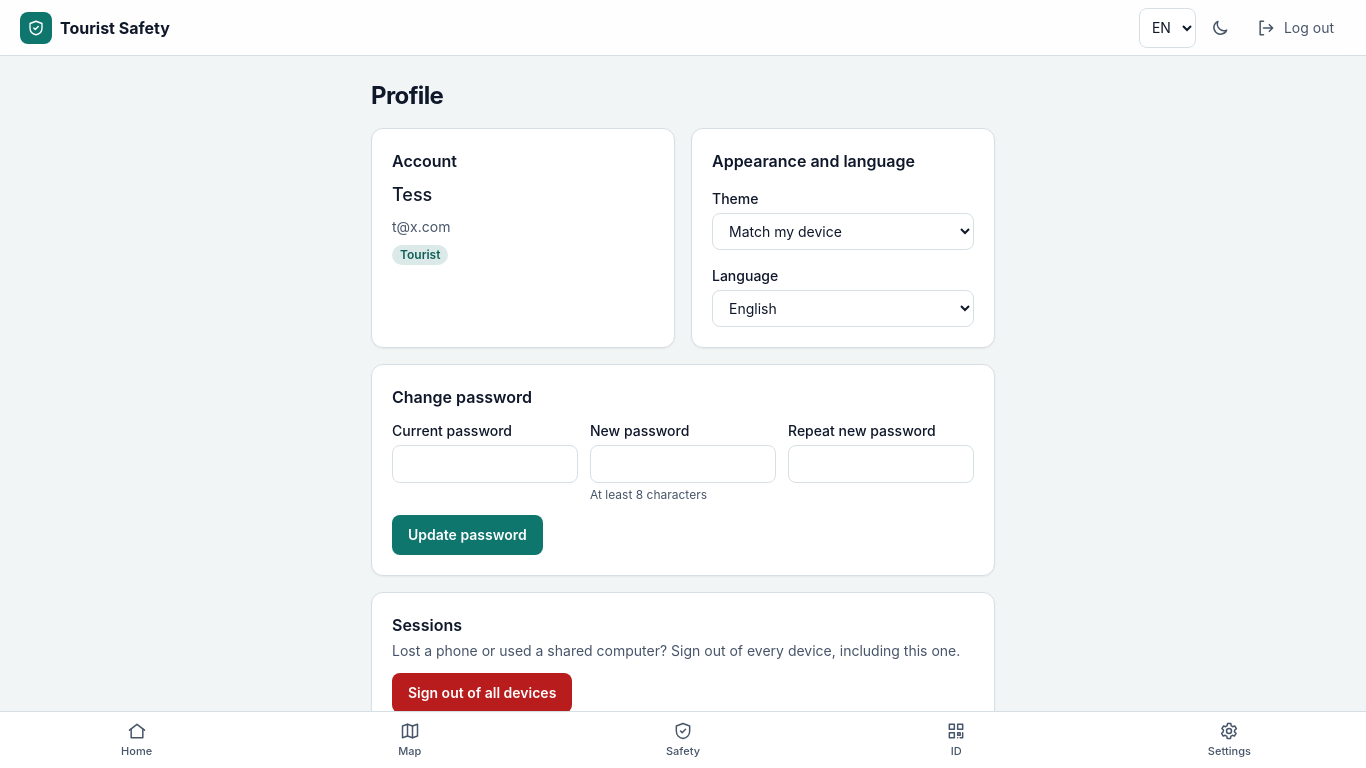
wrong current password shows the server message and keeps the old token
Type "nope-nope" into the password field labelled "Current password" at (485, 464), box x1=392 y1=445 x2=578 y2=483
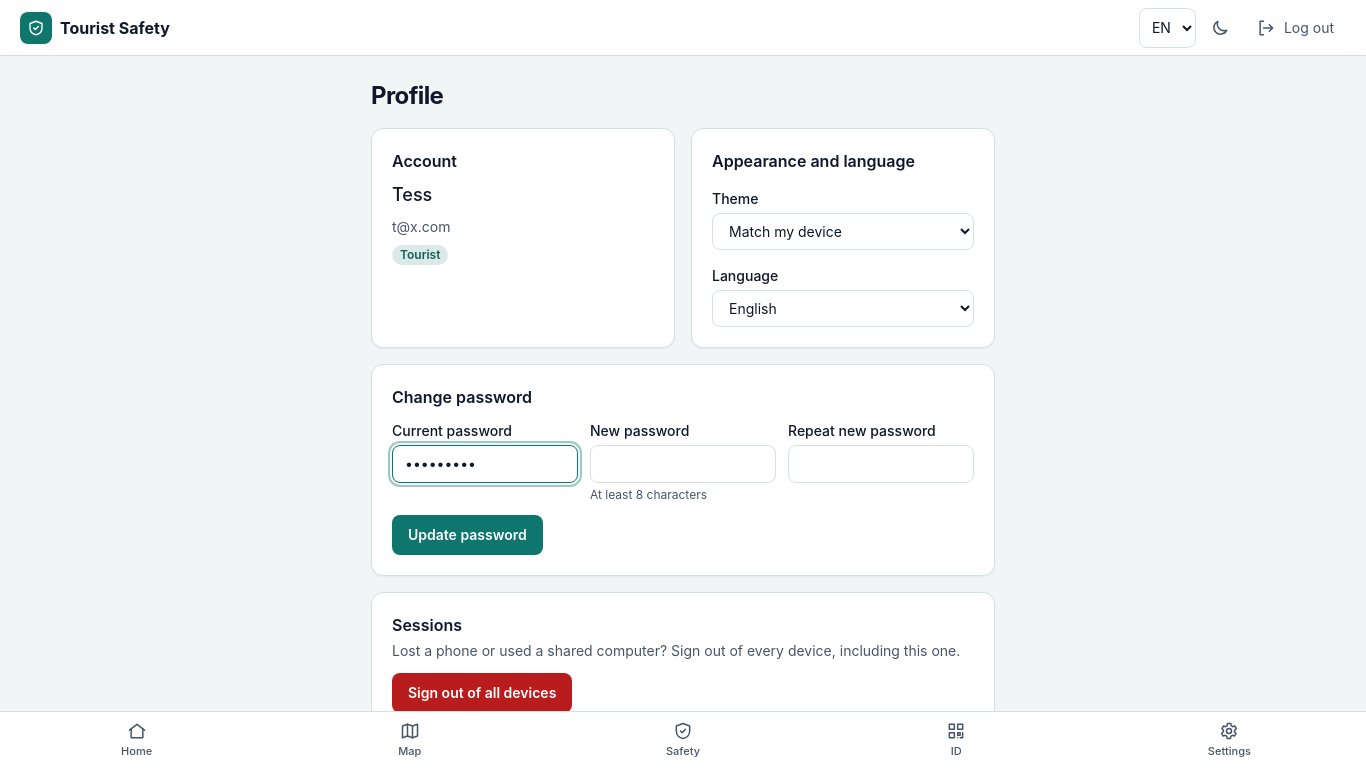
Type "newpassword1" into the password field labelled "New password" at (683, 464), box x1=590 y1=445 x2=776 y2=483
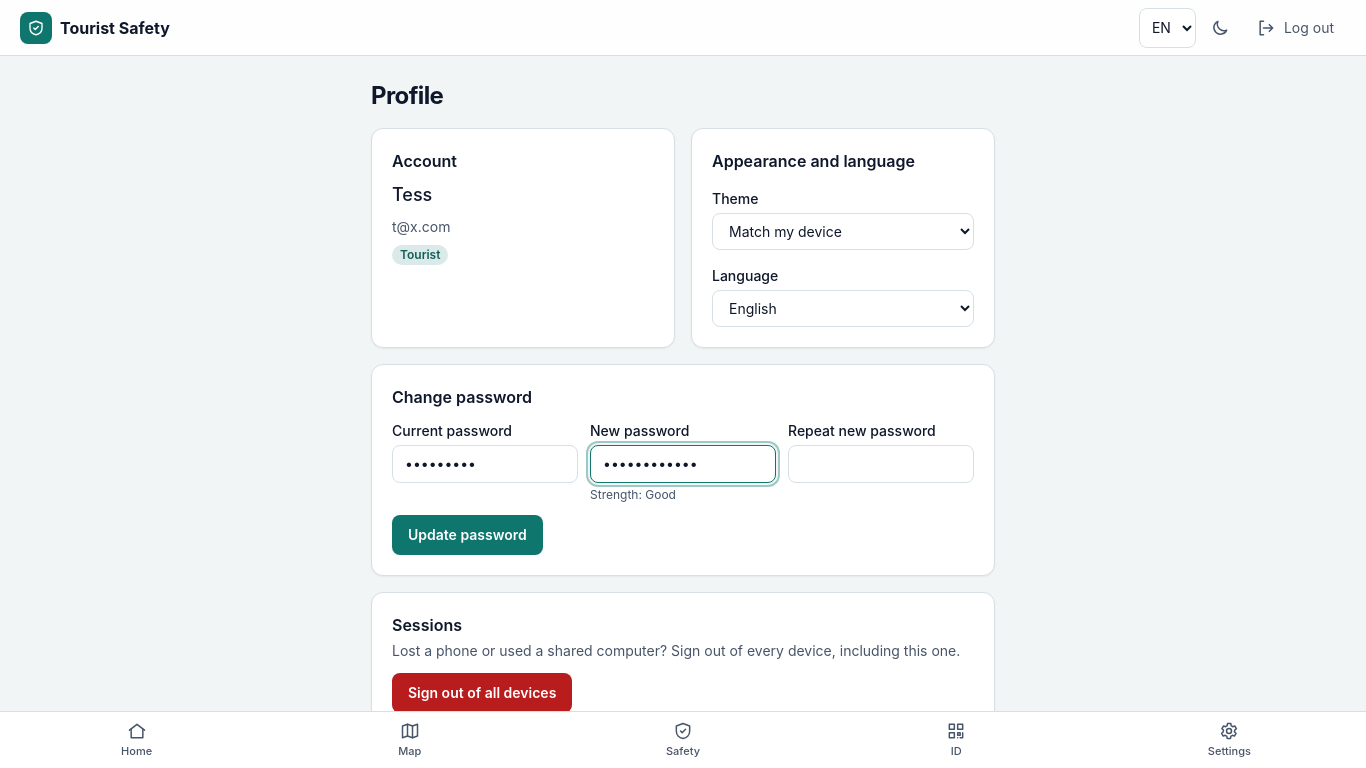
Type "newpassword1" into the password field labelled "Repeat new password" at (881, 464), box x1=788 y1=445 x2=974 y2=483
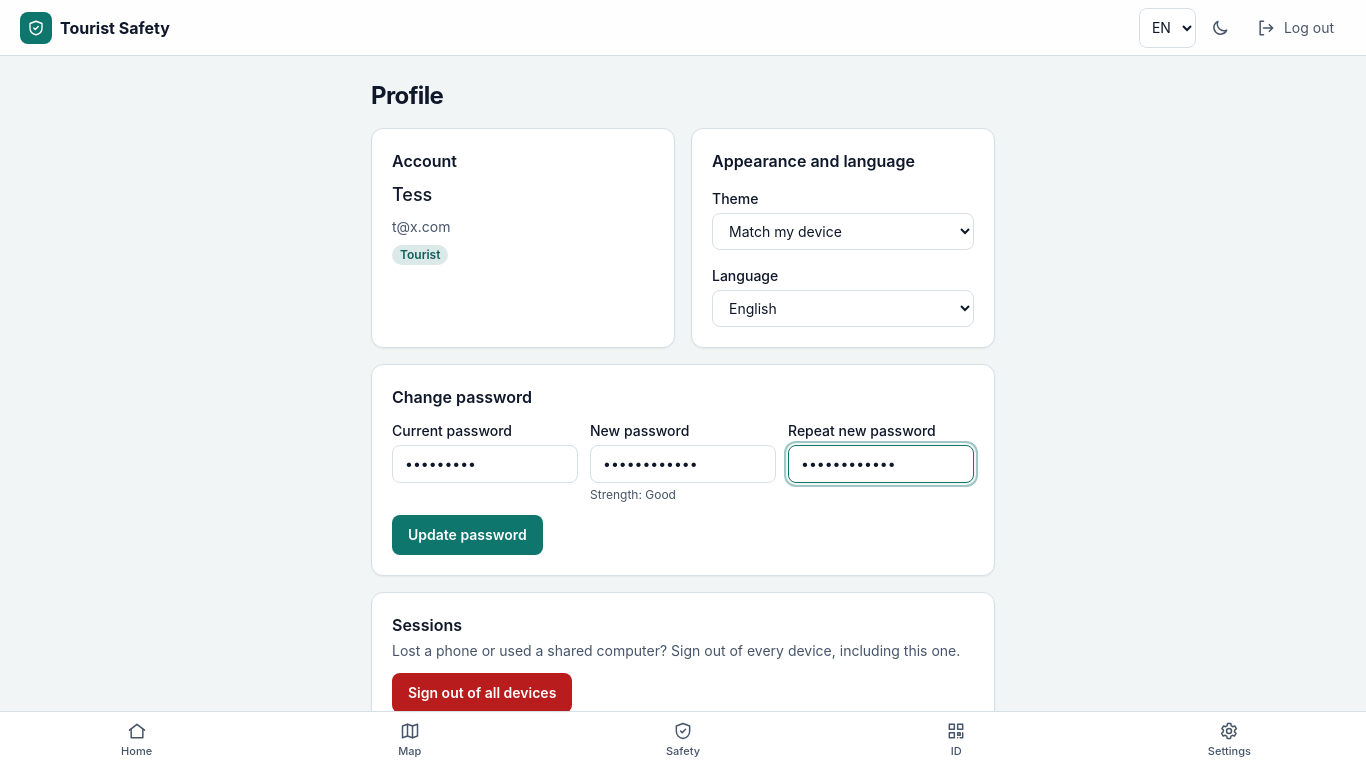
Click the button "Update password" at (467, 535), box x1=392 y1=515 x2=543 y2=555
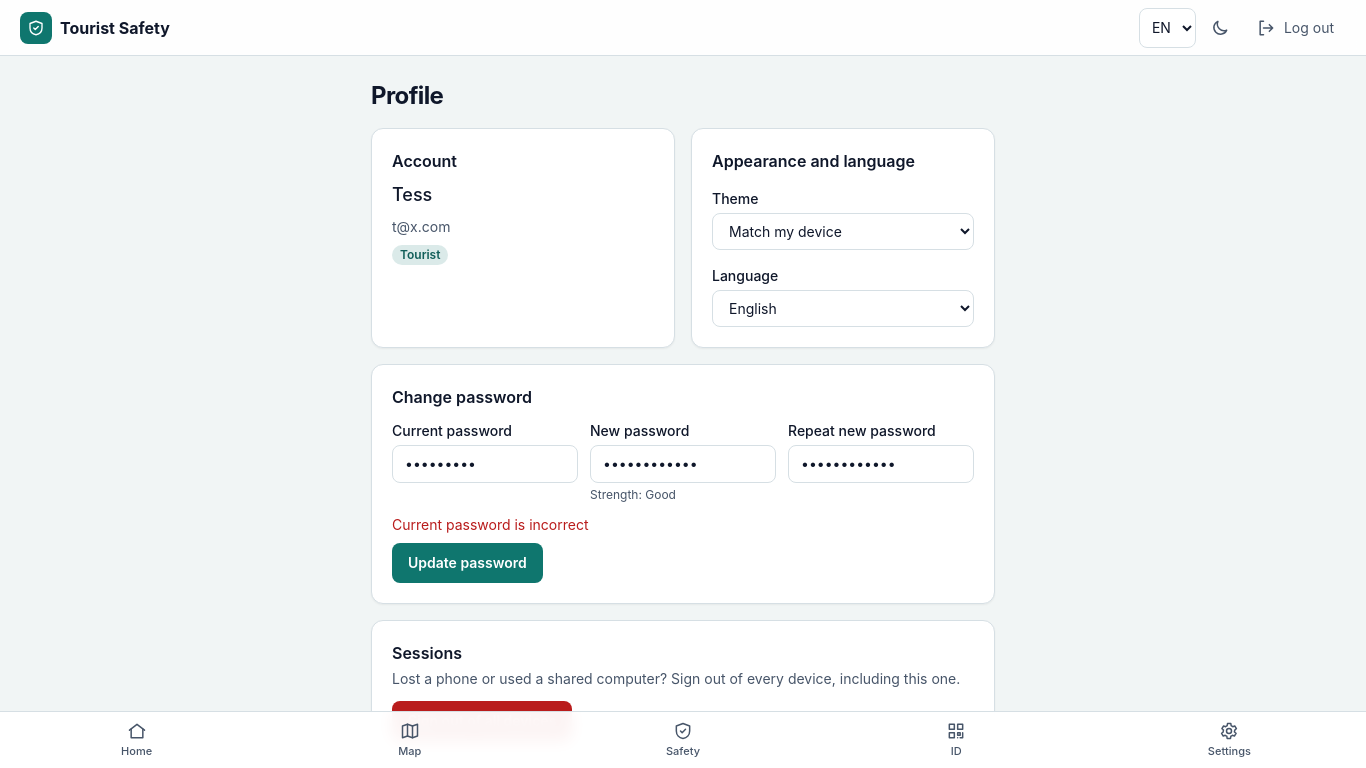
Now the message reads "Current password is incorrect", box x1=392 y1=516 x2=588 y2=533
